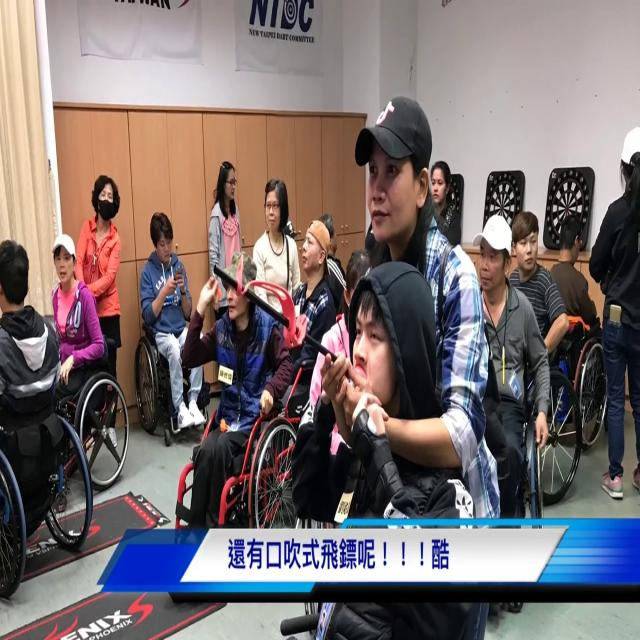wheelchairs: (0, 380, 90, 612), (445, 376, 581, 526), (164, 397, 304, 529), (54, 331, 137, 500), (130, 304, 214, 446)
